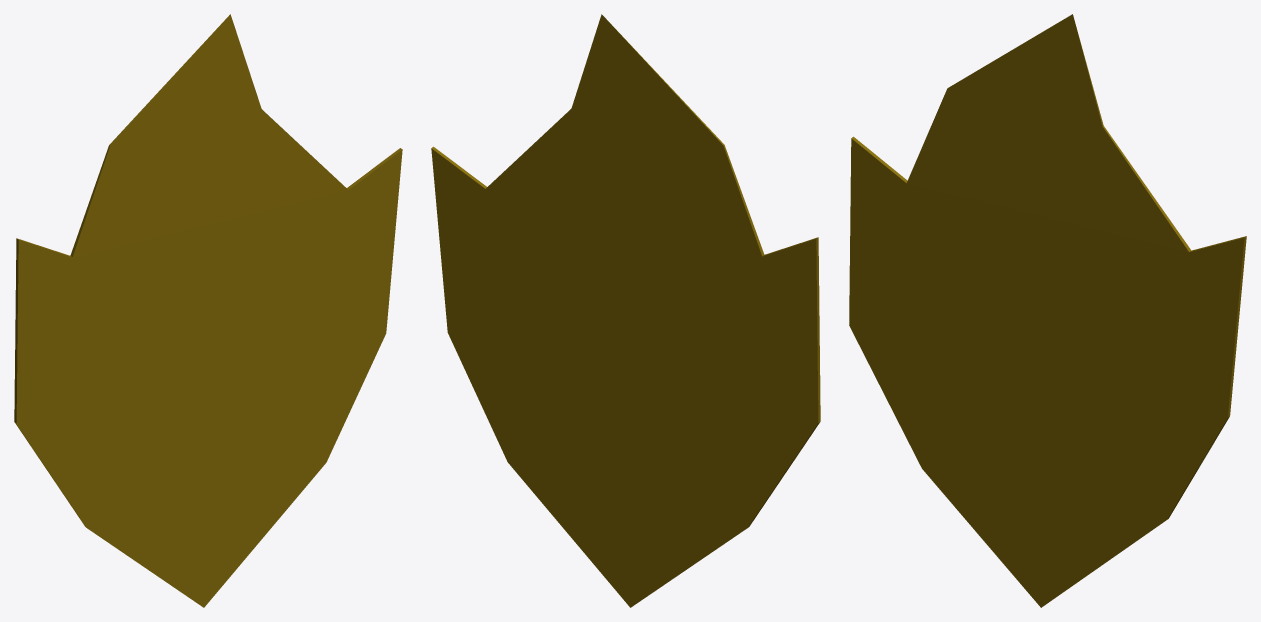
Rendered from Leave_b_02.fbx.
3 views of the same model, side by side, from view 1: azimuth 30°, elevation 25°; view 2: azimuth 150°, elevation 25°; view 3: azimuth 330°, elevation 25° (orthographic). The views are drawn at different scales.
Parts seen in each view (by area): view 1: Leave_b_02_LOD0; view 2: Leave_b_02_LOD0; view 3: Leave_b_02_LOD0.
Part boxes in pixels (x1,y1,x2,y2): Leave_b_02_LOD0: (14,14,402,607); Leave_b_02_LOD0: (431,14,820,607); Leave_b_02_LOD0: (849,14,1246,607).
Size of what is drawn, in the model's own units: 2.61 by 3.78 by 0.0263.
